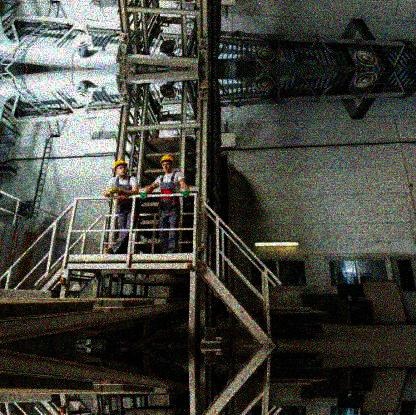helmet: (113, 158, 129, 178), (159, 154, 175, 173)
